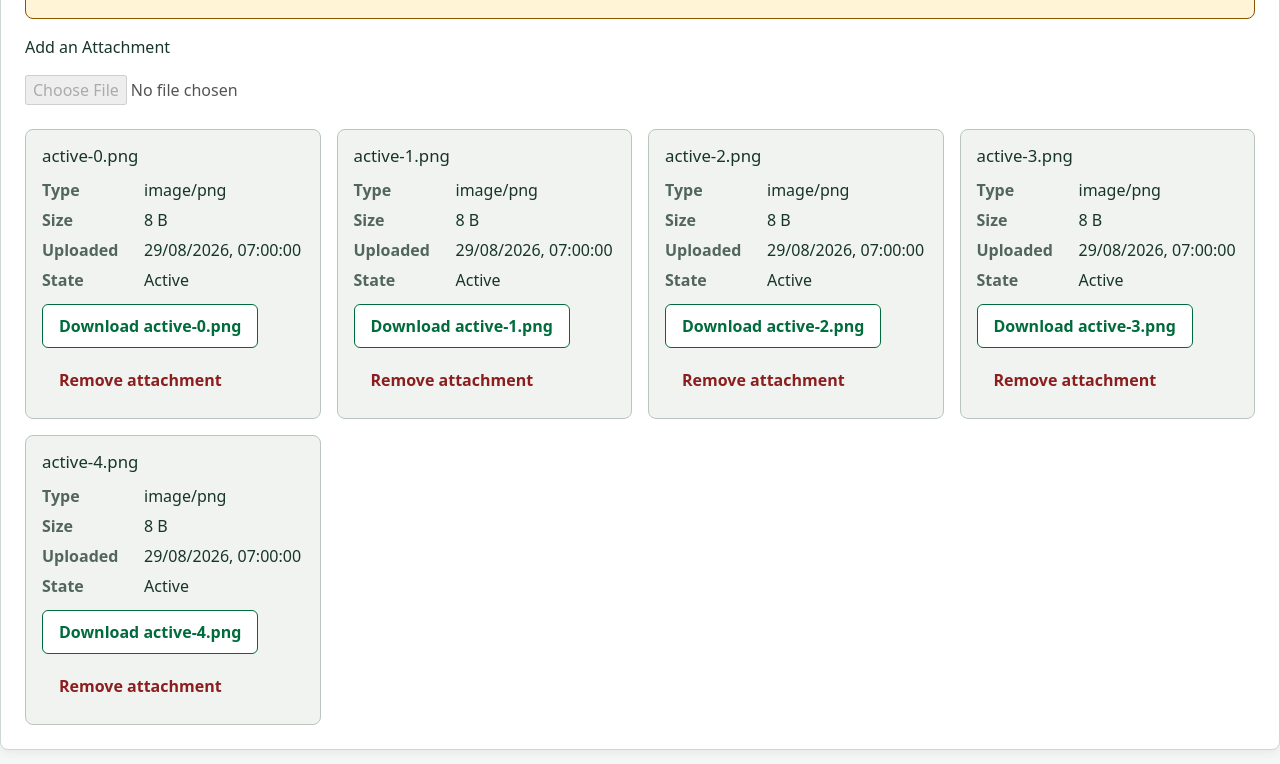
UI-09 AttachmentPanel › uses the post-mutation Ticket response as authoritative state and re-enables capacity after removal
(page scrolled)
Expected: the heading "active-0.png" is shown, [42,144,138,167]
Click the 1st button "Remove attachment". click: point(140, 380)
box: [42,358,239,402]
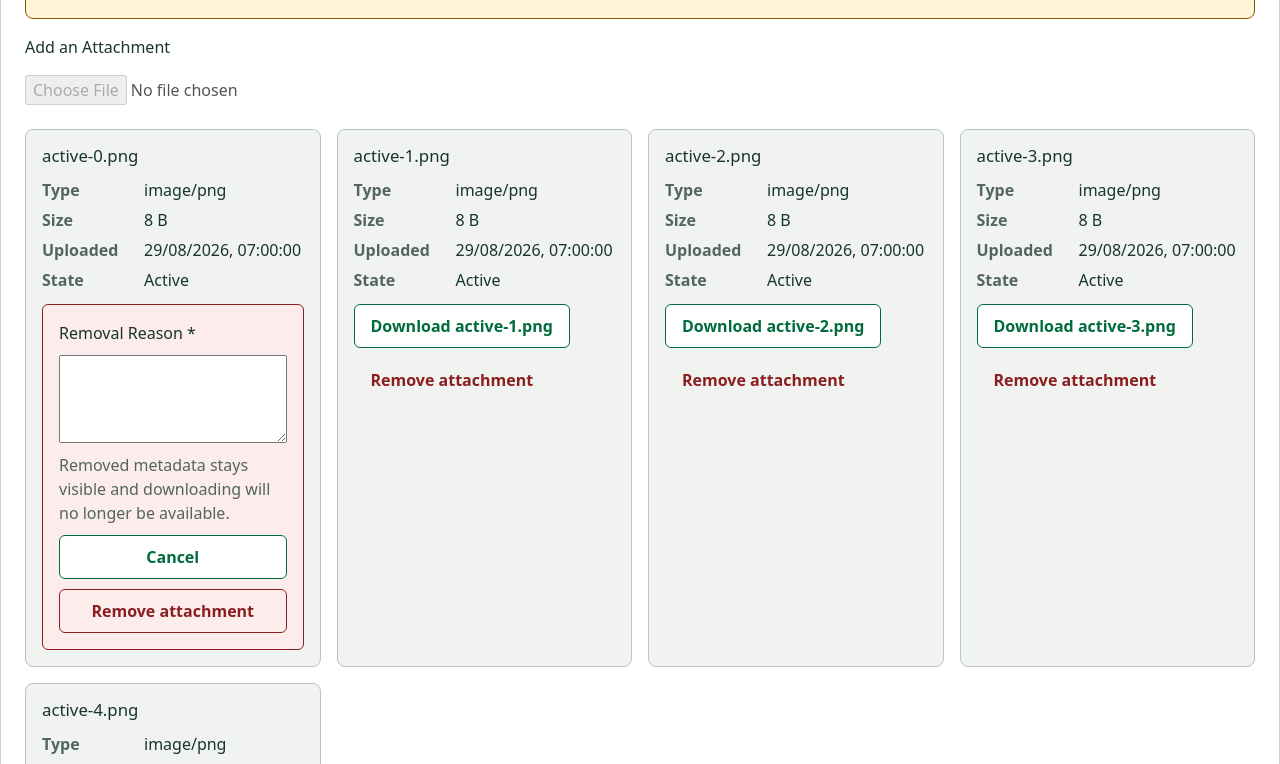
Type "retired" into the text box labelled "Removal Reason *". click: point(173, 399)
box: [59,355,286,443]
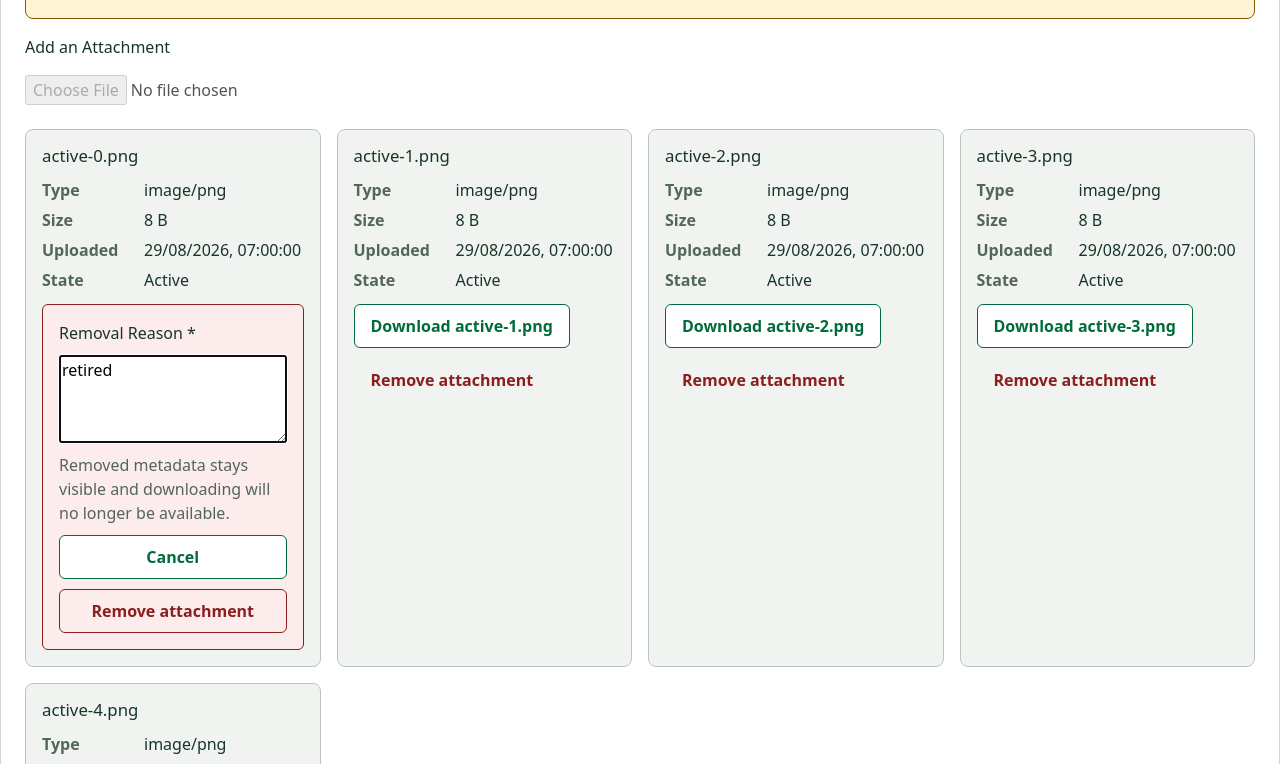
Click the button "Remove attachment" below "Removal Reason". click: point(173, 611)
box: [59,589,286,633]
(page scrolled)
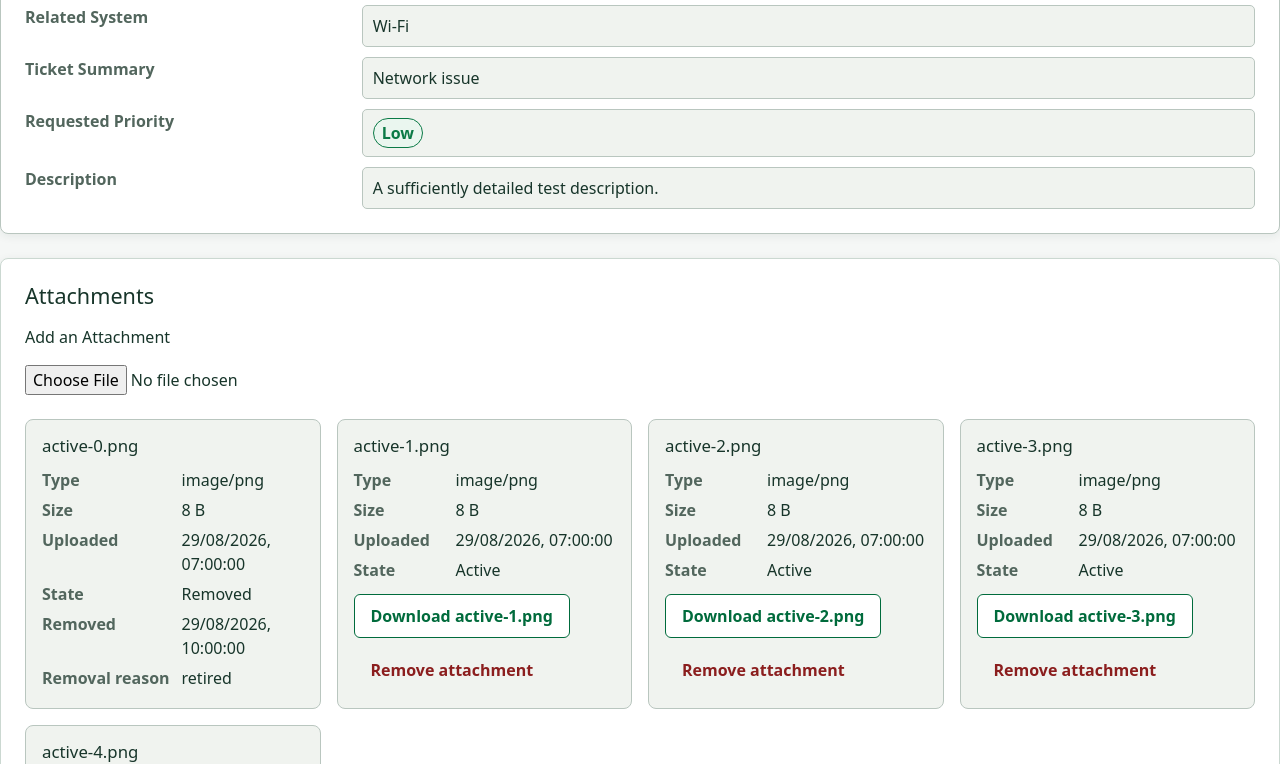
Result: the text "retired" is shown at [182,667,232,689]
Result: the file field labelled "Add an Attachment" is enabled at [25,357,1255,403]
